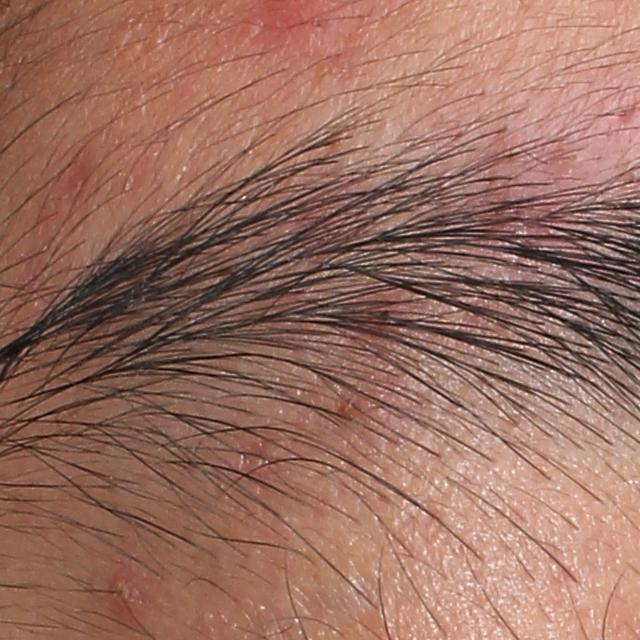papule: (100, 567, 150, 610)
